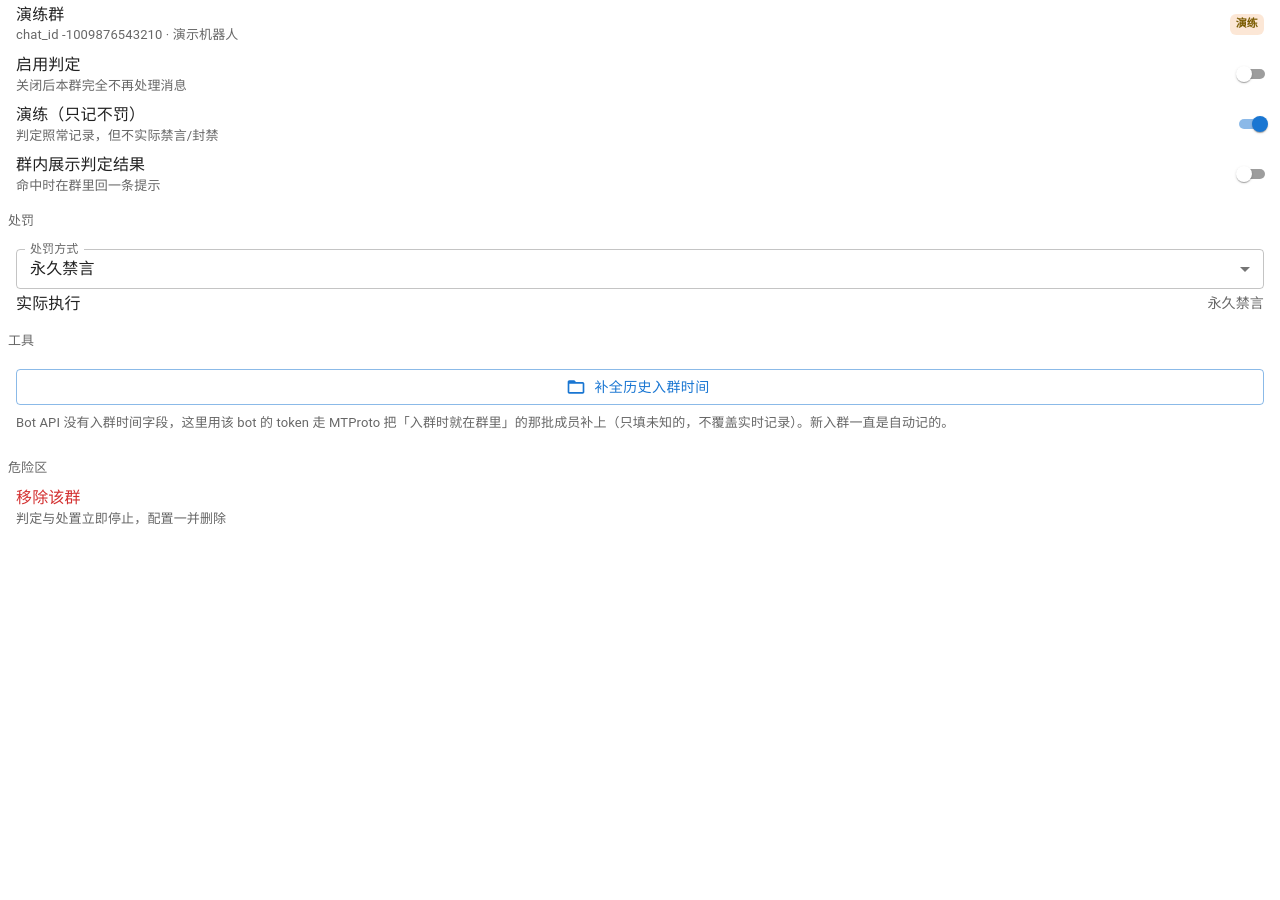
ChatDetailPage › 实际执行：跟随档位显示永久禁言；切成封禁出群后显示封禁出群（永久）
The image size is (1280, 900).
Expected: the text "实际执行" is shown, [16,294,81,313]
Expected: the text with test id "effective-punish" reads "永久禁言", [1207,295,1264,311]
处罚方式选择器含 `跟随 bot 设置`
Press the mouse on the dropdown named "处罚方式" at (62, 269), box [30,259,95,278]
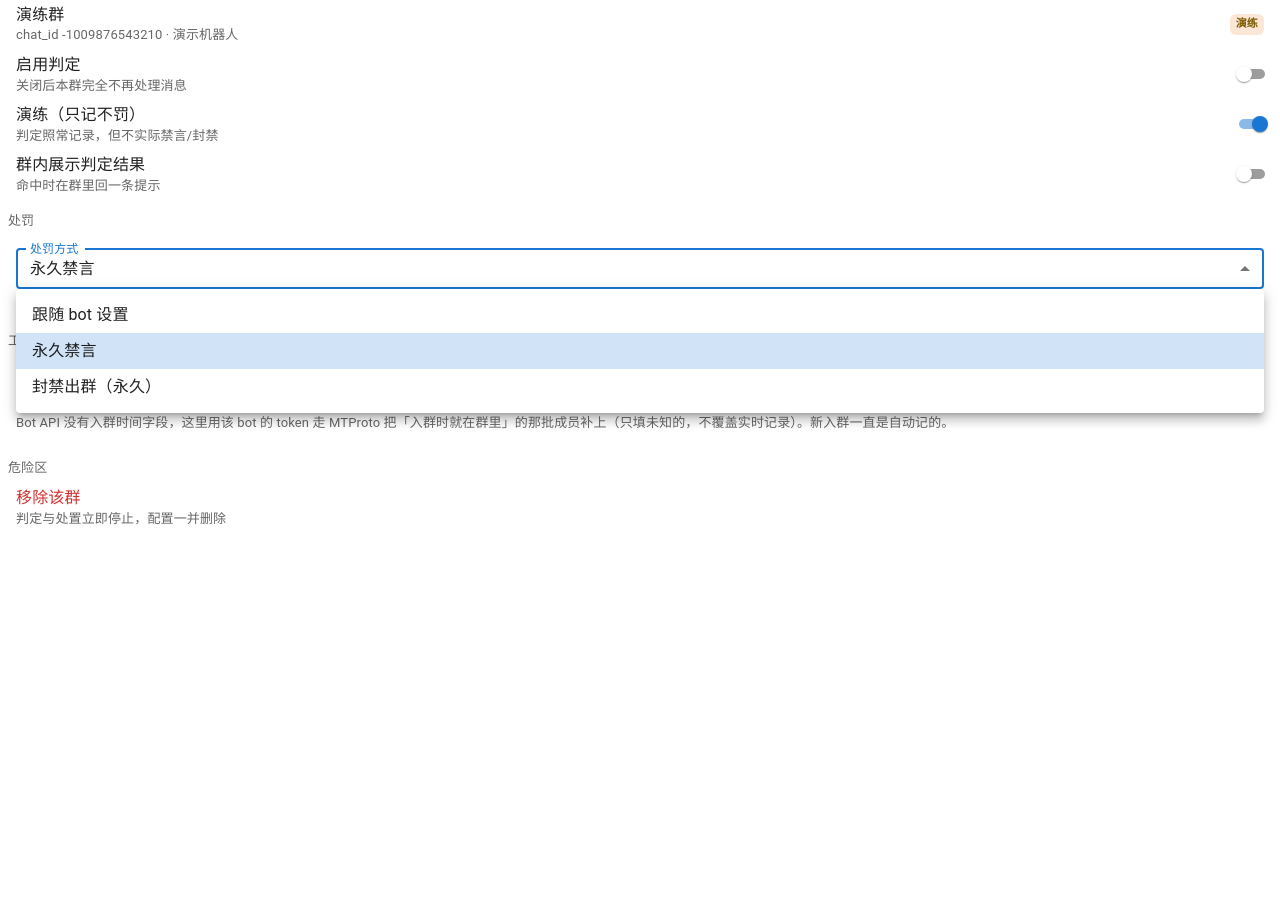
Result: the option "跟随 bot 设置" is shown at [32,305,129,324]
Click the option "封禁出群（永久）" at (97, 386), box [32,377,161,396]
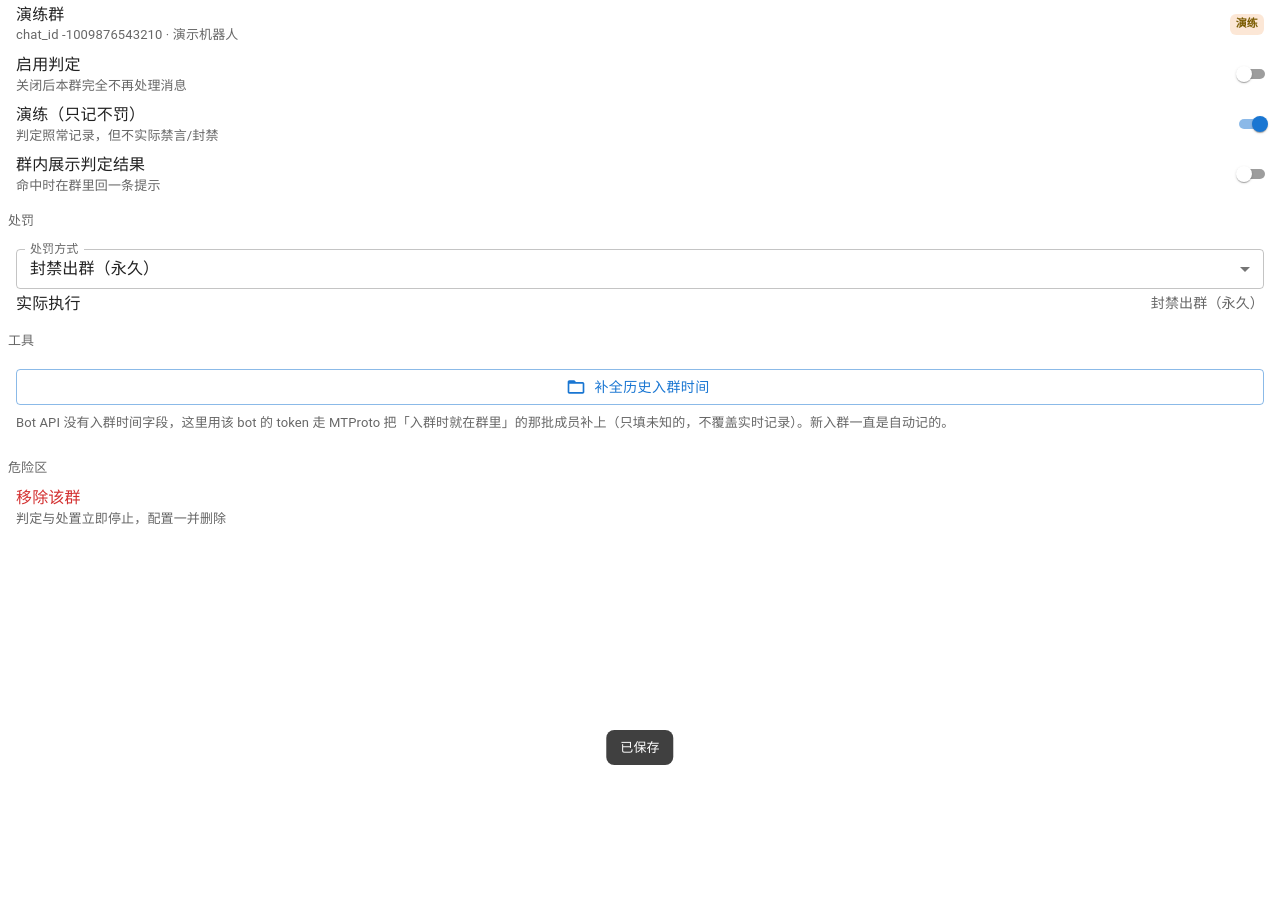
Result: the text with test id "effective-punish" reads "封禁出群（永久）" at [1151,295,1264,311]
